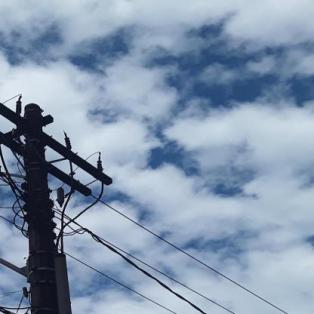Poste: (3, 102, 110, 314)
